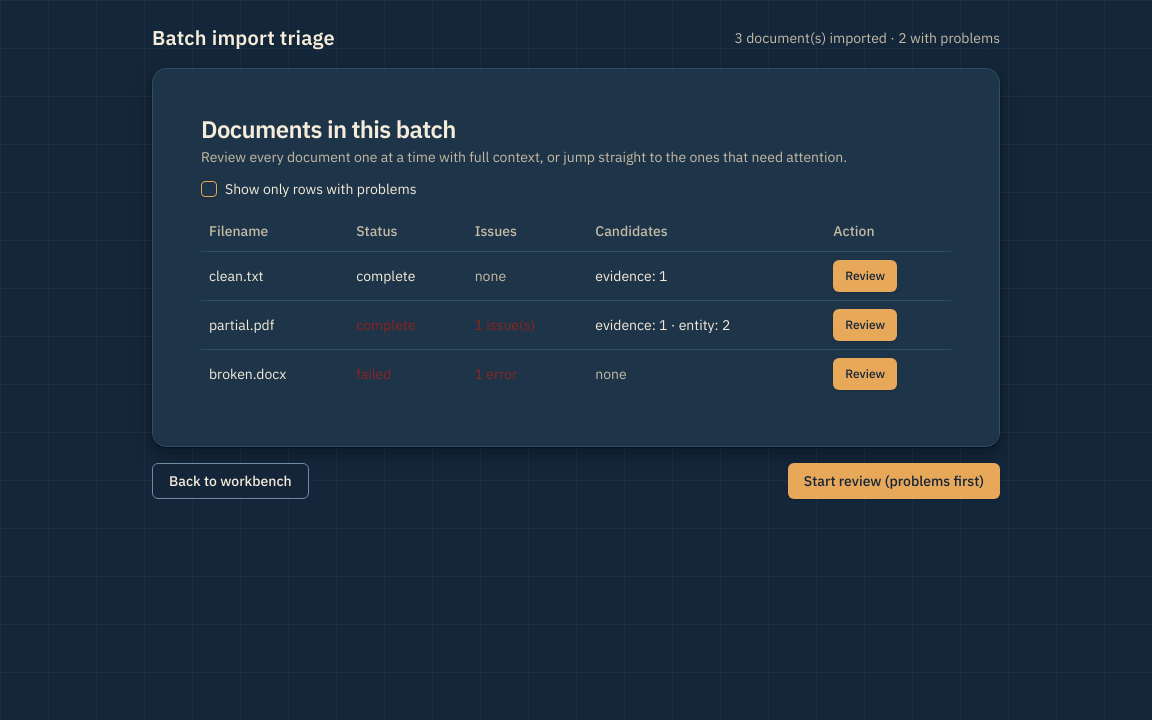
Batch triage table › summarizes the batch and lets the reporter filter to rows with problems
Expected: the element with test id "batch-triage-page" is shown, x1=128 y1=0 x2=1024 y2=522
Expected: the text with test id "triage-summary" reads "3 document(s) imported · 2 with problems", x1=734 y1=28 x2=1000 y2=48
Click the checkbox with test id "problems-only-toggle" at (209, 189), box x1=201 y1=181 x2=217 y2=197
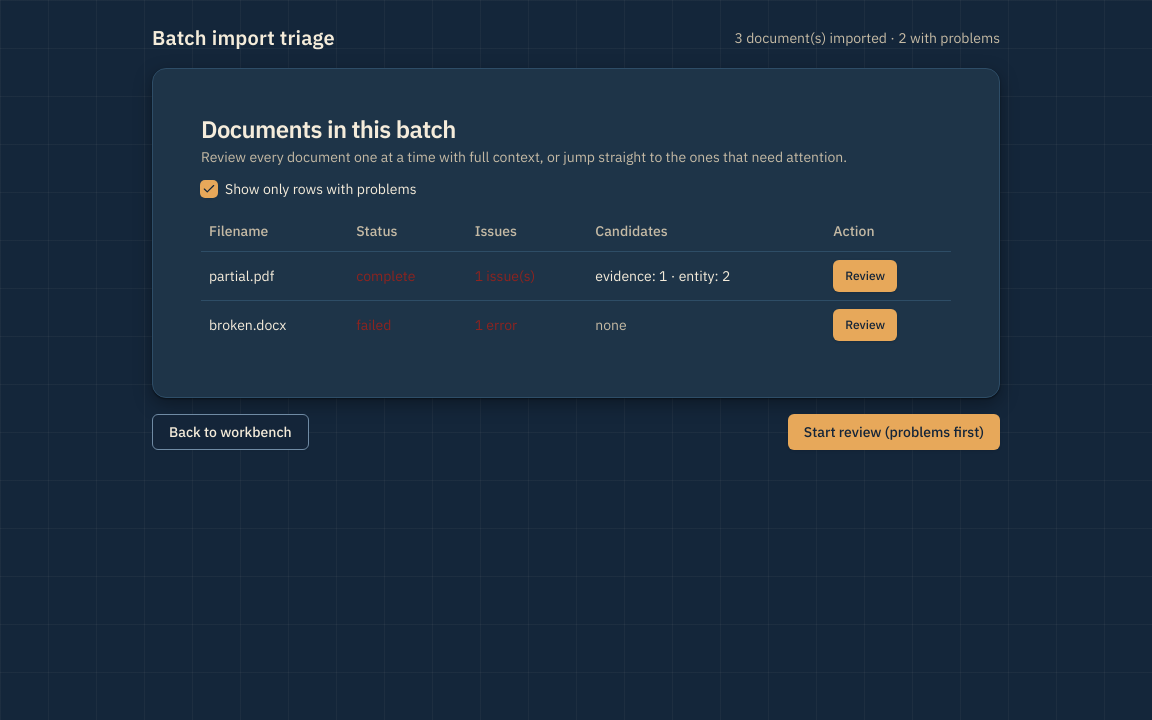
Expected: the row with test id "triage-row-doc-b" is shown, x1=201 y1=251 x2=951 y2=300
Result: the row with test id "triage-row-doc-a" is gone
Click the checkbox with test id "problems-only-toggle" at (209, 189), box x1=201 y1=181 x2=217 y2=197
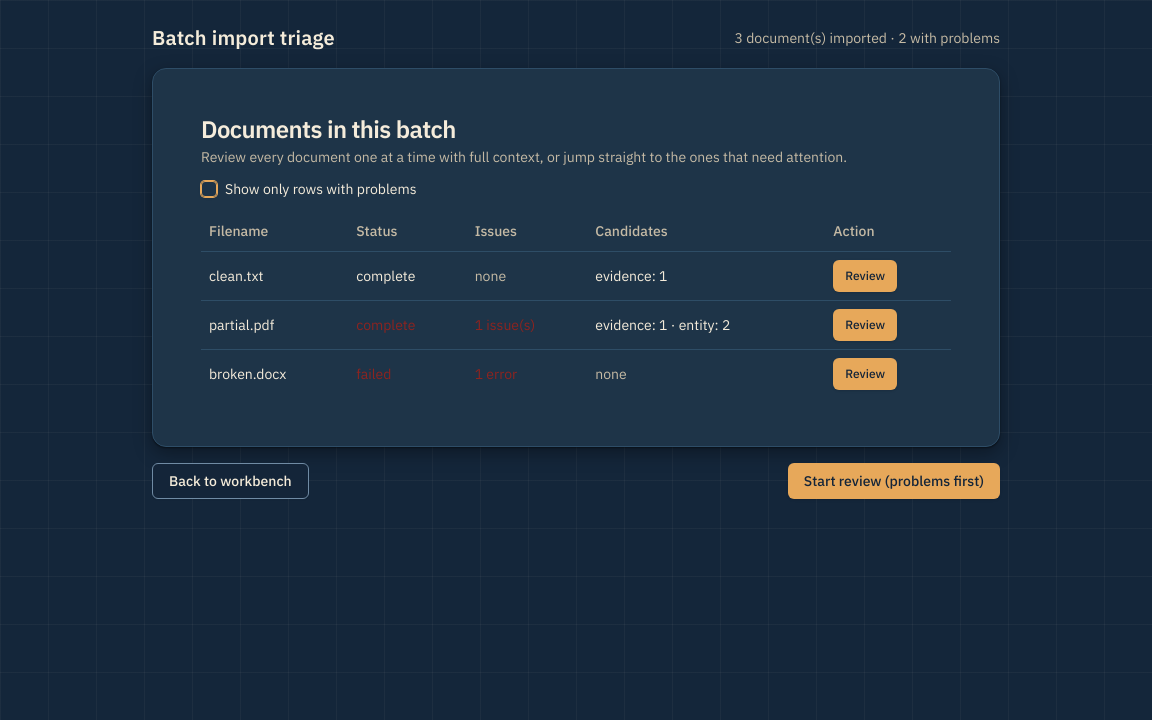
Result: the row with test id "triage-row-doc-a" is shown at x1=201 y1=251 x2=951 y2=300
